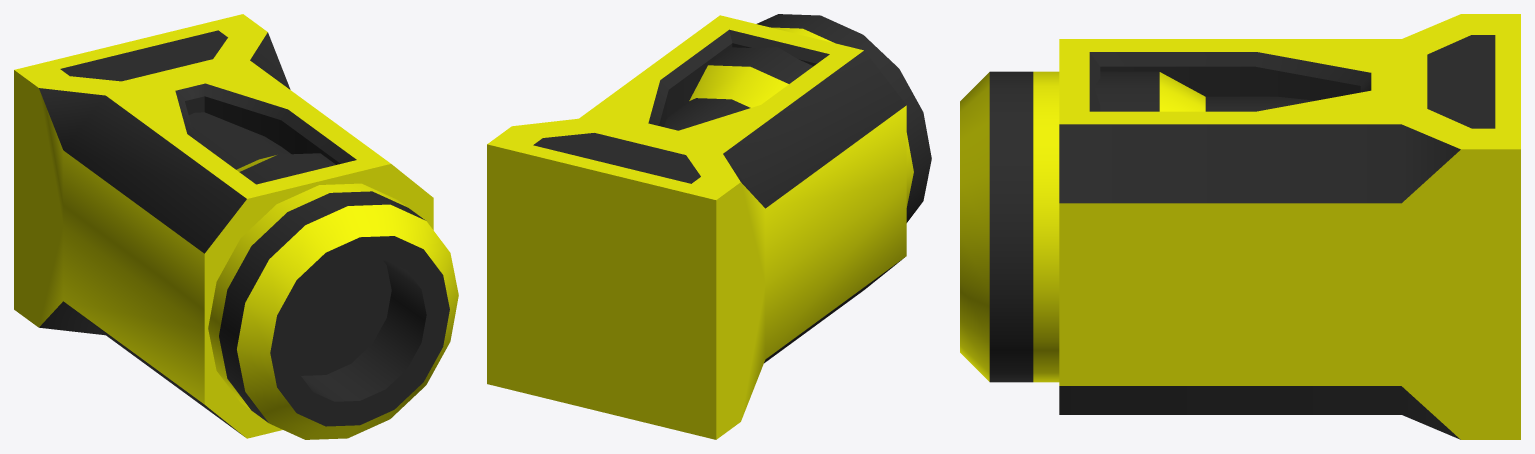
File: SM_Module_Engine_A_BO.fbx
3 renders of one model, left to right at view 1: azimuth 30°, elevation 25°; view 2: azimuth 150°, elevation 25°; view 3: azimuth 270°, elevation 25°, orthographic. The views are drawn at different scales.
Parts seen in each view (by area): view 1: SM_Module_Engine_A_BO; view 2: SM_Module_Engine_A_BO; view 3: SM_Module_Engine_A_BO.
Boxes of the visible parts, x1,y1,x2,y2 form: SM_Module_Engine_A_BO: [14, 14, 458, 439]; SM_Module_Engine_A_BO: [487, 14, 931, 439]; SM_Module_Engine_A_BO: [960, 14, 1520, 439].
Bounding box in the file's own units: 2 × 3.5 × 2.
